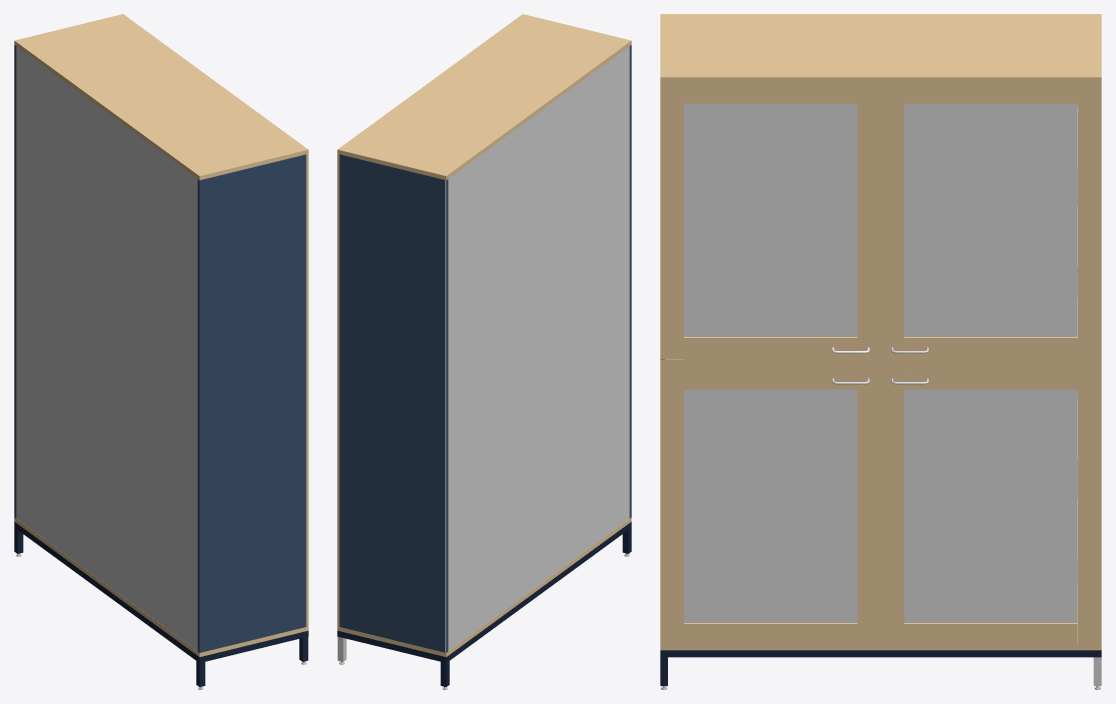
Rendered from Cabinet.fbx.
The picture shows the model from 3 angles, left to right: view 1: azimuth 30°, elevation 25°; view 2: azimuth 150°, elevation 25°; view 3: azimuth 270°, elevation 25°; orthographic projection. The views are drawn at different scales.
Parts seen in each view (by area): view 1: Plane.004, Plane.002, Plane, Plane.003, Plane.001, Plane.028, Plane.011, Plane.020, Plane.029; view 2: Plane.004, Plane.001, Plane, Plane.003, Plane.002, Plane.028, Plane.025, Plane.016, Plane.030; view 3: glass.001, glass.003, glass, glass.002, Plane, Plane.015, Plane.024, Plane.011, Plane.016, Plane.020, Plane.025, Plane.012 (+12 smaller).
Part boxes in pixels (bbox=[...]): Plane.004: bbox=[16, 46, 197, 650]; Plane.002: bbox=[197, 154, 306, 652]; Plane: bbox=[14, 14, 308, 180]; Plane.003: bbox=[14, 517, 308, 656]; Plane.001: bbox=[14, 45, 16, 518]; Plane.028: bbox=[14, 522, 205, 662]; Plane.011: bbox=[306, 154, 308, 386]; Plane.020: bbox=[306, 394, 308, 626]; Plane.029: bbox=[205, 632, 302, 661]; Plane.004: bbox=[445, 46, 629, 652]; Plane.001: bbox=[339, 154, 448, 652]; Plane: bbox=[337, 14, 631, 180]; Plane.003: bbox=[337, 517, 631, 656]; Plane.002: bbox=[629, 45, 631, 518]; Plane.028: bbox=[440, 522, 631, 662]; Plane.025: bbox=[337, 393, 339, 626]; Plane.016: bbox=[337, 154, 339, 386]; Plane.030: bbox=[343, 632, 440, 661]; glass.001: bbox=[904, 103, 1077, 336]; glass.003: bbox=[904, 389, 1077, 622]; glass: bbox=[684, 103, 857, 336]; glass.002: bbox=[684, 389, 857, 622]; Plane: bbox=[660, 14, 1101, 82]; Plane.015: bbox=[880, 82, 904, 359]; Plane.024: bbox=[880, 368, 904, 645]; Plane.011: bbox=[660, 82, 683, 359]; Plane.016: bbox=[1078, 82, 1101, 359]; Plane.020: bbox=[660, 368, 683, 645]; Plane.025: bbox=[1078, 368, 1101, 645]; Plane.012: bbox=[857, 82, 880, 359].
Bounding box in the file's own units: 101 × 429 × 280.
